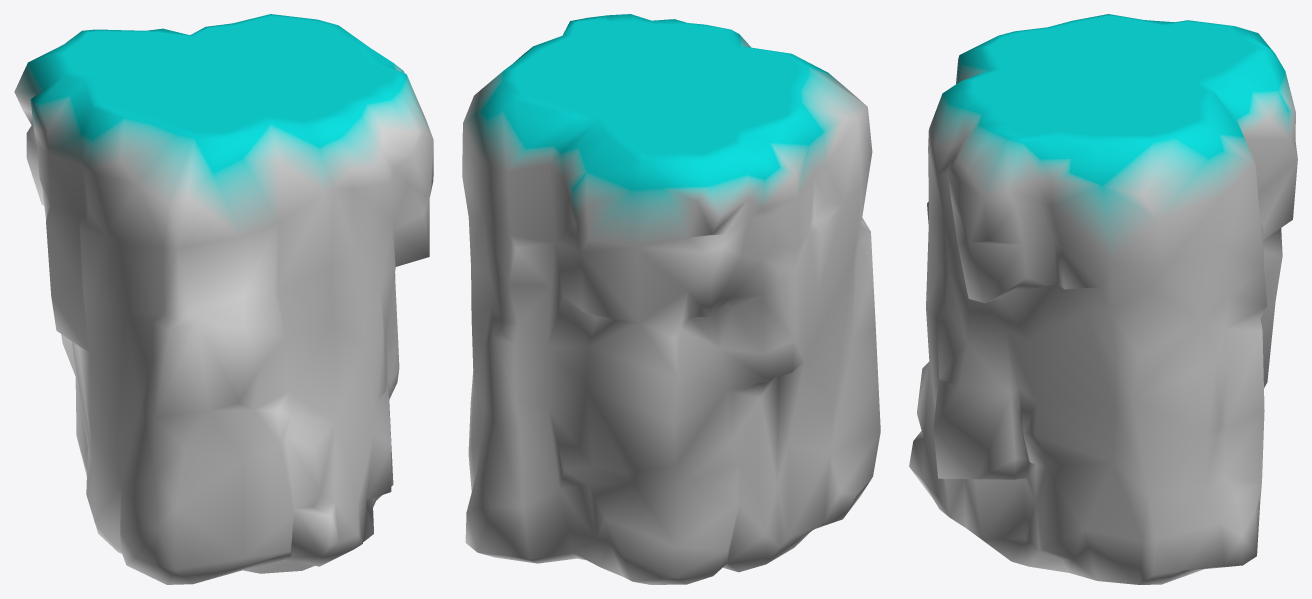
Rendered from Homeworld_Exterior_Common_Rockery_03_Lod0.fbx.
3 views of the same model, side by side, from view 1: azimuth 30°, elevation 25°; view 2: azimuth 150°, elevation 25°; view 3: azimuth 270°, elevation 25° (orthographic). The views are drawn at different scales.
Visible parts, largest first — view 1: Homeworld_Exterior_Common_Rockery_03_Lod0; view 2: Homeworld_Exterior_Common_Rockery_03_Lod0; view 3: Homeworld_Exterior_Common_Rockery_03_Lod0.
Part boxes in pixels (bbox=[...]): Homeworld_Exterior_Common_Rockery_03_Lod0: bbox=[14, 14, 433, 584]; Homeworld_Exterior_Common_Rockery_03_Lod0: bbox=[462, 14, 880, 584]; Homeworld_Exterior_Common_Rockery_03_Lod0: bbox=[909, 14, 1297, 584].
Size of what is drawn, in the model's own units: 8.19 by 10.88 by 8.55.
